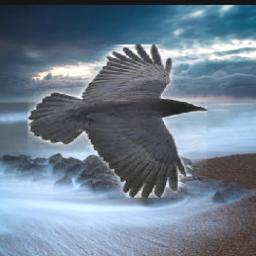Crow: (28, 45, 207, 199)
